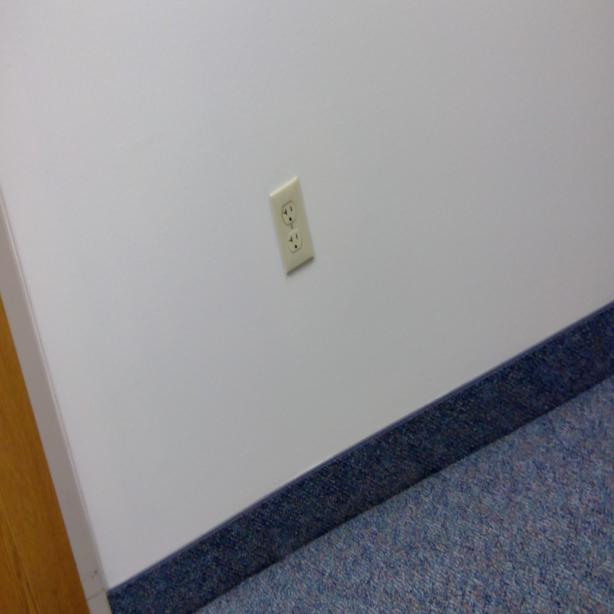typeb: (287, 231, 303, 253), (282, 202, 296, 225)
